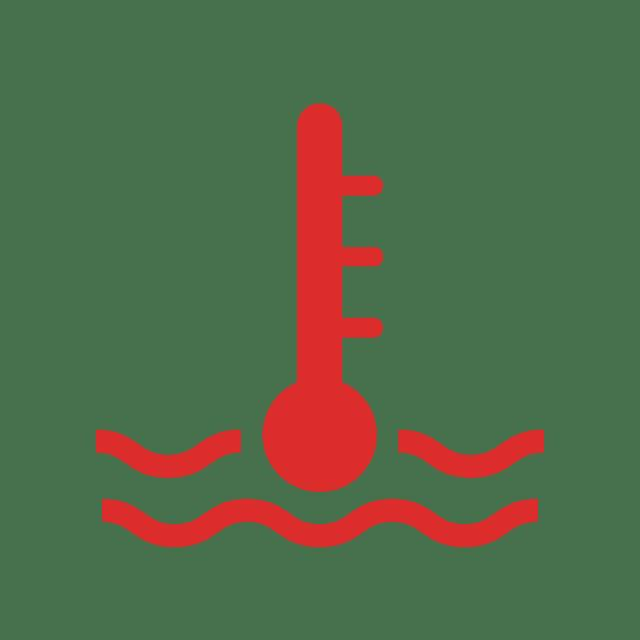kontrolka: (76, 86, 568, 564)
